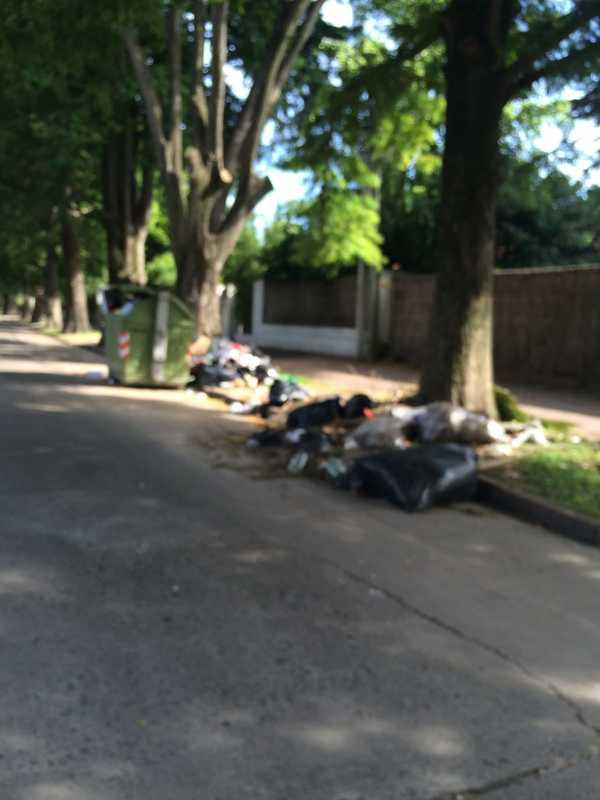Dechets: (285, 402, 542, 511), (346, 442, 477, 511), (200, 338, 308, 416), (249, 393, 386, 446)
Trash: (97, 284, 195, 386)
